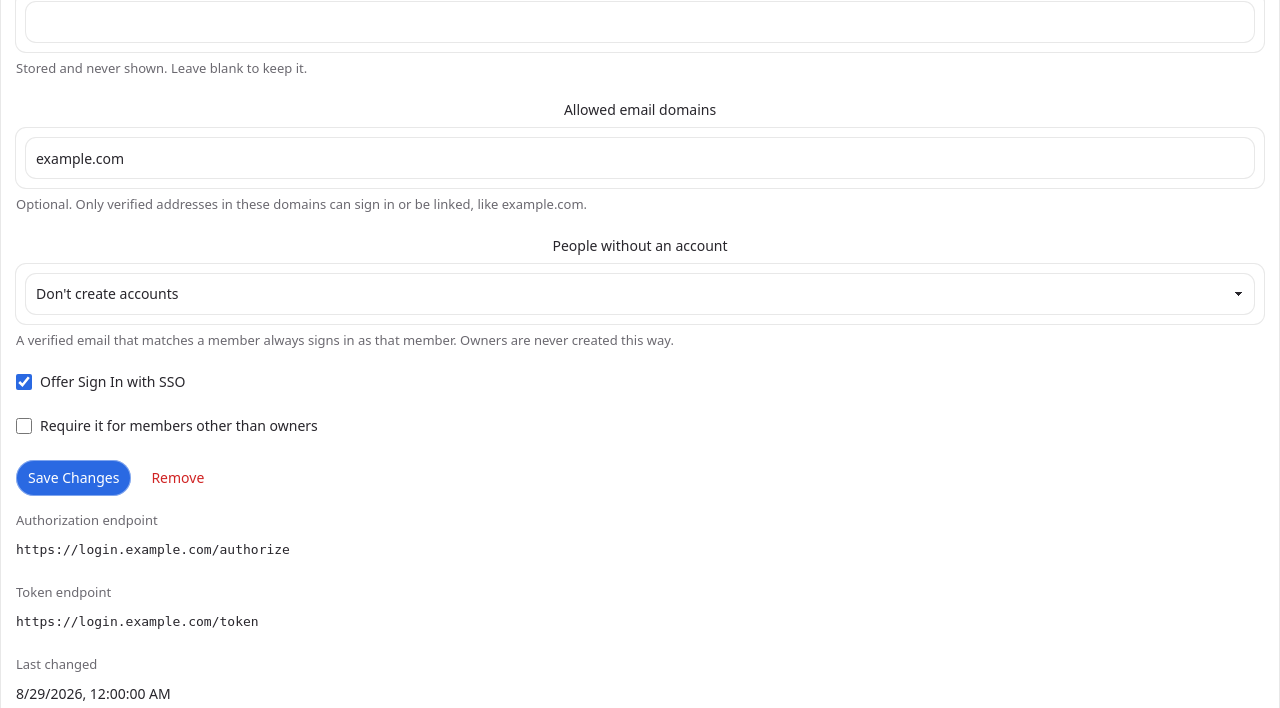
Scenario: Single sign-on settings › keeps the stored secret and confirms before requiring single sign-on
The width and height of the screenshot is (1280, 708).
(page scrolled)
What coordinates should you click on to do the following:
click the checkbox labelled "Require it for members other than owners"
I would click on:
 (24, 426)
Its box is 16,418 -> 32,434.
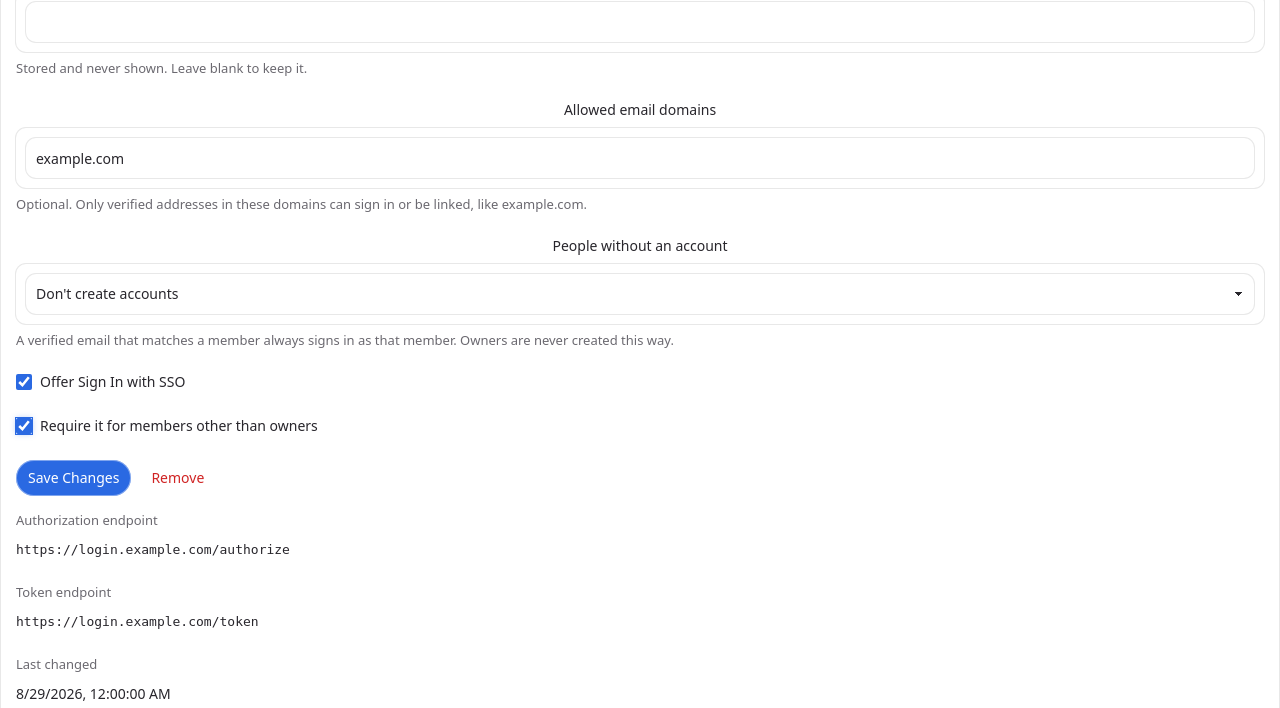
What coordinates should you click on to do the following:
click the button "Save Changes"
I would click on:
 (74, 478)
Its box is 16,460 -> 131,496.
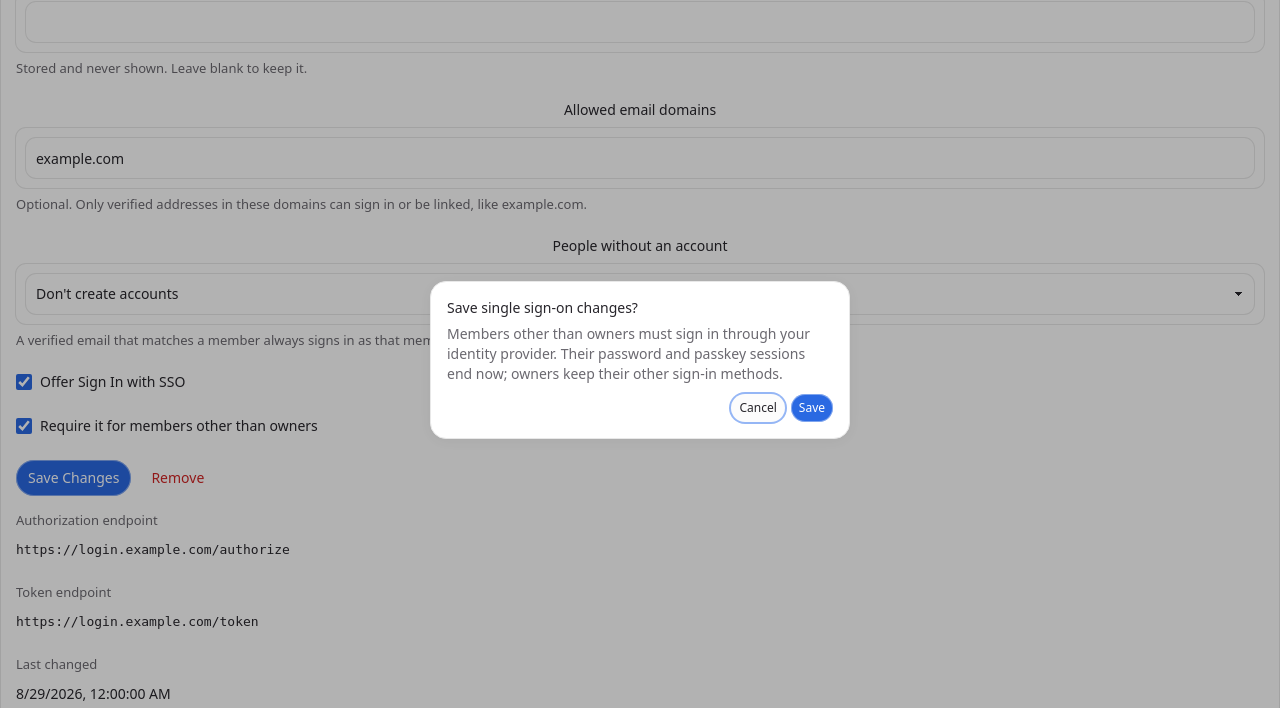
Result: the text "password and passkey sessions end now" is shown at 447,324 -> 810,383
What coordinates should you click on to do the following:
click the button "Save"
I would click on:
 (812, 408)
Its box is 791,394 -> 833,422.
(page scrolled)
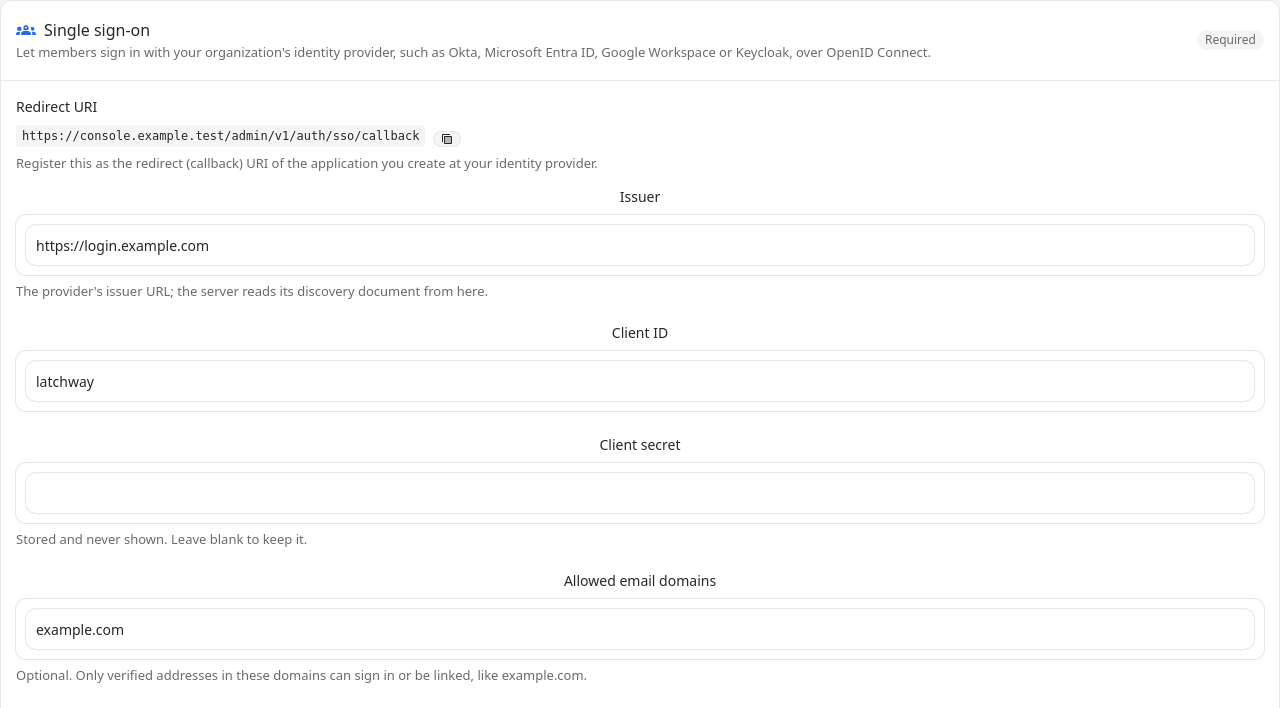
Result: the text "Required" is shown at 1205,32 -> 1256,48
